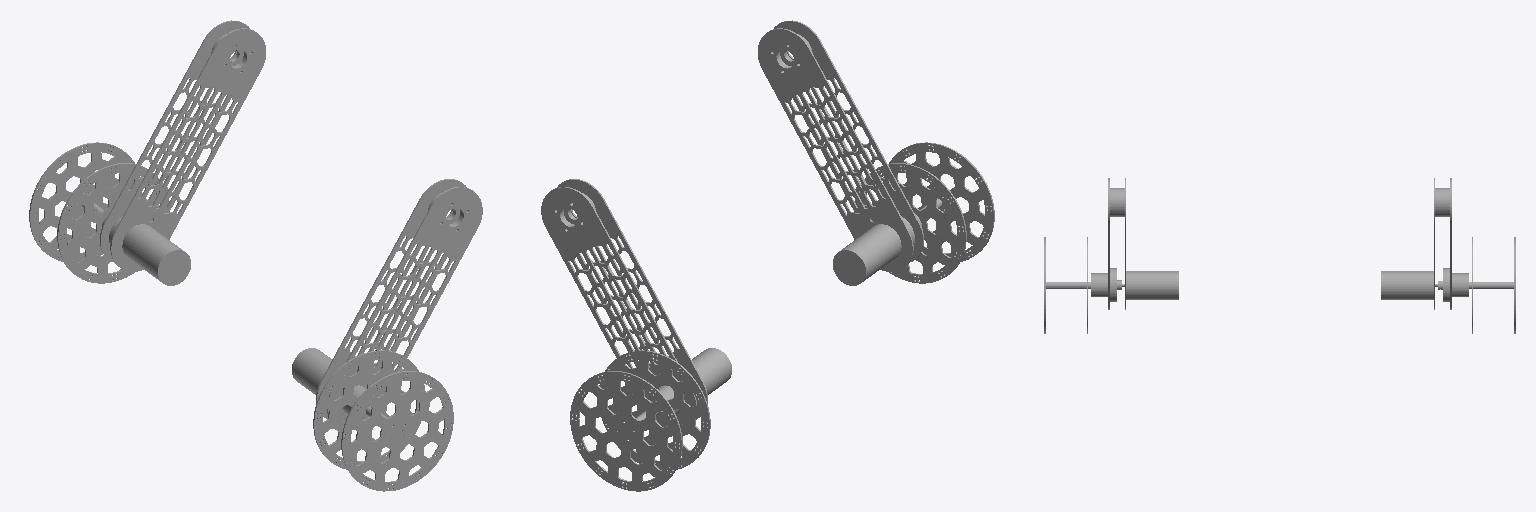
robot.urdf — rover:
<?xml version="1.0"?>
<robot name="rover">

  <material name="gray">
    <color rgba="0.7 0.7 0.7 5"/>
  </material>
  <material name="black">
    <color rgba="0.2 0.2 0.2 2"/>
  </material>
  <material name="chasis">
    <color rgba="0.4 0 0 2"/>
  </material>
  <material name="joint">
    <color rgba="0.4 0 0 2"/>
  </material>

  <link name="base_link">
    <visual>
      <geometry>
        <box size="0.0001 0.0001 0.000033"/>
      </geometry>
    </visual>
  </link>

  <link name="base_pitch">
    <visual>
      <geometry>
        <box size="0.0001 0.0001 0.000033"/>
      </geometry>
    </visual>
  </link>

  <link name="base_roll">
    <visual>
      <geometry>
        <box size="0.0001 0.0001 0.000033"/>
      </geometry>
    </visual>
  </link>

  <joint name="base_link_to_base_pitch" type="revolute">
    <axis xyz="0 0 1"/>
    <limit effort="1000.0" lower="-7" upper="7" velocity=".1"/>
    <parent link="base_link"/>
    <child link="base_pitch"/>
    <origin xyz="0 0 -.000033"/>
  </joint>

  <joint name="base_pitch_to_base_roll" type="revolute">
    <axis xyz="0 1 0"/>
    <limit effort="1000.0" lower="-0.6" upper="0.6" velocity=".1"/>
    <parent link="base_pitch"/>
    <child link="base_roll"/>
    <origin xyz="0 0 -.000066"/>
  </joint>
  
  <link name="chasis">
    <visual>
      <geometry>
        <mesh filename="package://model/meshes/chasis.STL" scale="0.001 0.001 0.001"/>
      </geometry>
      <origin rpy="1.5708 0 0" xyz="-1.08 0.524 -4.175"/>
      <material name="gray"/>
    </visual>
  </link>

  <joint name="base_roll_to_chasis" type="revolute">
    <axis xyz="1 0 0"/>
    <limit effort="1000.0" lower="-0.6" upper="0.6" velocity=".1"/>
    <parent link="base_roll"/>
    <child link="chasis"/>
    <origin xyz="0 0 -0.0001"/>
  </joint>
  
  <link name="right">
    <visual>
      <geometry>
        <mesh filename="package://model/meshes/boogie1.STL" scale="0.001 0.001 0.001"/>
      </geometry>
      <origin rpy="1.5708 0 0" xyz="-0.888 0.846 -4.165"/>
      <material name="gray"/>
    </visual>
  </link>

  <link name="left">
    <visual>
      <geometry>
        <mesh filename="package://model/meshes/boogie2.STL" scale="0.001 0.001 0.001"/>
      </geometry>
      <origin rpy="1.5708 0 0" xyz="-0.888 0.202 -4.165"/>
      <material name="gray"/>
    </visual>
  </link>

  <link name="right2">
    <visual>
      <geometry>
        <mesh filename="package://model/meshes/rocker1.STL" scale="0.001 0.001 0.001"/>
      </geometry>
      <origin rpy="1.5708 0 3.1416" xyz="1.275 -0.232 -4.165"/>
      <material name="gray"/>
    </visual>
  </link>

  <link name="left2">
    <visual>
      <geometry>
        <mesh filename="package://model/meshes/rocker2.STL" scale="0.001 0.001 0.001"/>
      </geometry>
      <origin rpy="1.5708 0 3.1416" xyz="1.275 -0.817 -4.165"/>
      <material name="gray"/>
    </visual>
  </link>
  
   <joint name="chasis_to_right" type="revolute">
    <axis xyz="0 1 0"/>
    <limit effort="1000.0" lower="-0.6" upper="0.6" velocity=".1"/>
    <parent link="chasis"/>
    <child link="right"/>
    <origin xyz="0.195 -0.282 -.012"/>
  </joint>

  <joint name="chasis_to_right2" type="revolute">
    <axis xyz="0 1 0"/>
    <limit effort="1000.0" lower="-0.6" upper="0.6" velocity=".1"/>
    <parent link="chasis"/>
    <child link="right2"/>
    <origin xyz="-0.195 -0.312 -.012"/>
  </joint>

  <joint name="chasis_to_left" type="revolute">
    <axis xyz="0 1 0"/>
    <limit effort="1000.0" lower="-0.6" upper="0.6" velocity=".1"/>
    <parent link="chasis"/>
    <child link="left"/>
    <origin xyz="0.195 0.282 -.012"/>
  </joint>

  <joint name="chasis_to_left2" type="revolute">
    <axis xyz="0 1 0"/>
    <limit effort="1000.0" lower="-0.6" upper="0.6" velocity=".1"/>
    <parent link="chasis"/>
    <child link="left2"/>
    <origin xyz="-0.195 0.312 -.012"/>
  </joint>

</robot>

--- What the picture shows (computed from the rendered views, not written in the file) ---
Views: 3 orthographic renders of the robot side by side, from view 1: azimuth 30°, elevation 25°; view 2: azimuth 150°, elevation 25°; view 3: azimuth 270°, elevation 25°.
Robot: rover — 8 links, 7 joints (7 revolute); root link base_link; default pose: every joint at zero.
Visible links, largest first — view 1: left2, right2; view 2: left2, right2; view 3: right2, left2.
Boxes of the visible links, x1=… form: left2: x1=29, y1=20, x2=265, y2=285; right2: x1=292, y1=179, x2=482, y2=491; left2: x1=541, y1=179, x2=731, y2=491; right2: x1=758, y1=20, x2=994, y2=285; right2: x1=1044, y1=178, x2=1178, y2=333; left2: x1=1381, y1=178, x2=1515, y2=333.
Size in the robot's own frame: 0.4722 by 0.9713 by 0.4219 metres.
2 mesh visuals loaded from 5 distinct referenced files (2 binary STL); not drawn: 3 (reference not matched to a file when rendering).